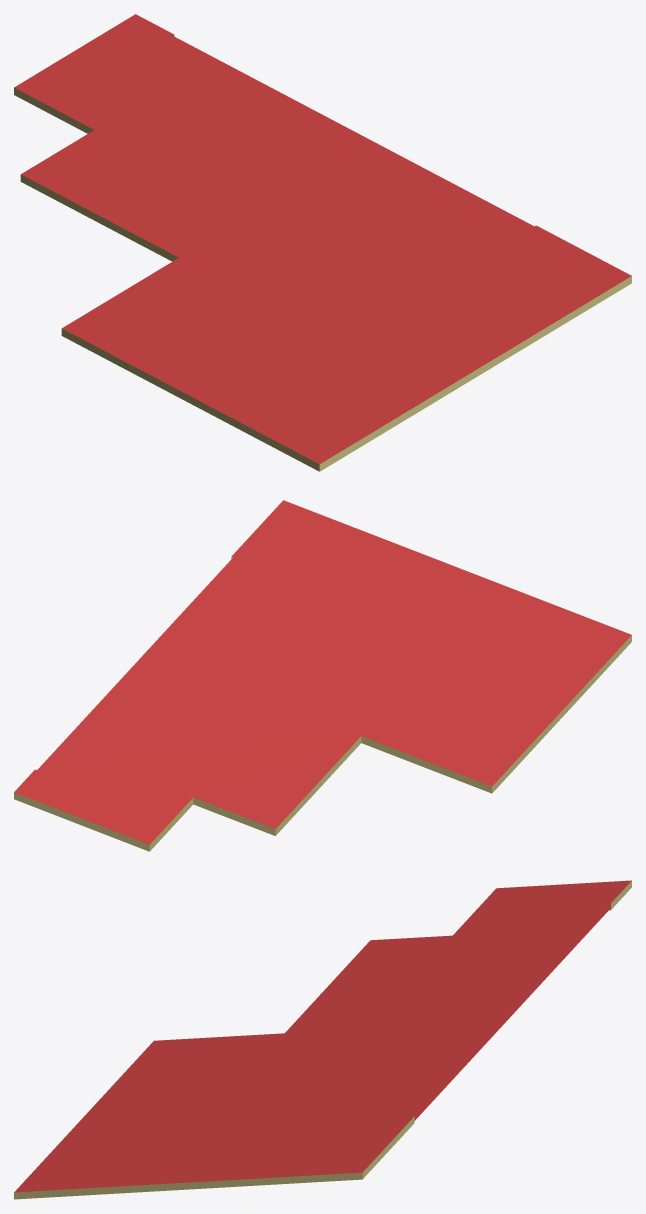
3 views of the same model, one above another, from view 1: azimuth 30°, elevation 25°; view 2: azimuth 150°, elevation 25°; view 3: azimuth 330°, elevation 25° (orthographic). The views are drawn at different scales.
Size of the model in its own units: 5.55 by 10.25 by 1.21.
